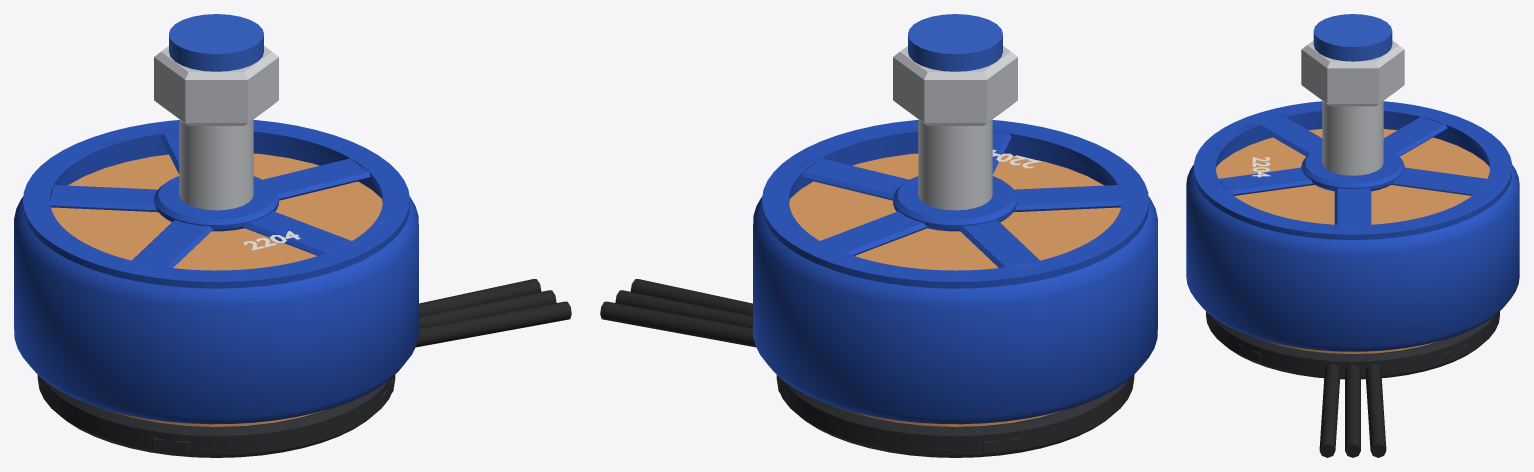
Rendered from motor_m2204.glb.
3 views of the same model, side by side, from view 1: azimuth 30°, elevation 25°; view 2: azimuth 150°, elevation 25°; view 3: azimuth 270°, elevation 25° (orthographic). The views are drawn at different scales.
Parts seen in each view (by area): view 1: motor_campana, motor_techo, techo_cobre, motor_base, motor_tuerca, motor_cables, motor_eje, tuerca_nylon, motor_bobinado; view 2: motor_campana, motor_techo, techo_cobre, motor_base, motor_tuerca, motor_cables, motor_eje, tuerca_nylon, motor_bobinado; view 3: motor_campana, motor_techo, techo_cobre, motor_base, motor_tuerca, motor_cables, motor_eje, tuerca_nylon, motor_bobinado.
Part boxes in pixels (box(x1,y1,x2,y2)): motor_campana: box(14, 128, 418, 424); motor_techo: box(23, 120, 409, 288); techo_cobre: box(51, 153, 382, 270); motor_base: box(37, 375, 395, 457); motor_tuerca: box(154, 46, 278, 125); motor_cables: box(416, 279, 571, 347); motor_eje: box(179, 119, 253, 210); tuerca_nylon: box(169, 14, 263, 71); motor_bobinado: box(107, 410, 325, 426); motor_campana: box(753, 127, 1157, 424); motor_techo: box(762, 120, 1148, 288); techo_cobre: box(789, 153, 1120, 270); motor_base: box(776, 375, 1134, 457); motor_tuerca: box(893, 46, 1017, 125); motor_cables: box(600, 279, 755, 347); motor_eje: box(918, 119, 992, 210); tuerca_nylon: box(908, 14, 1002, 71); motor_bobinado: box(846, 410, 1064, 426); motor_campana: box(1186, 108, 1519, 351); motor_techo: box(1194, 101, 1511, 239); techo_cobre: box(1216, 129, 1489, 224); motor_base: box(1206, 311, 1499, 379); motor_tuerca: box(1301, 40, 1404, 106); motor_cables: box(1319, 363, 1386, 457); motor_eje: box(1322, 101, 1383, 175); tuerca_nylon: box(1313, 14, 1392, 61); motor_bobinado: box(1263, 340, 1442, 353).
Size of the model in its own units: 0.0396 by 0.0263 by 0.0272.
